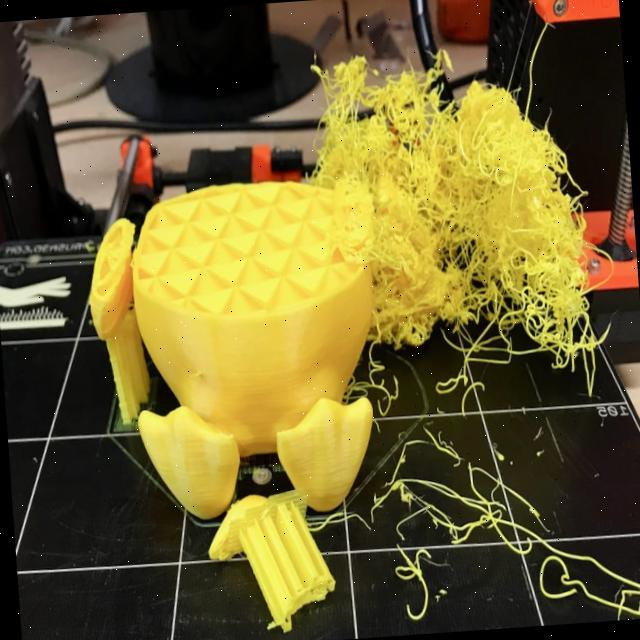spaghetti: (297, 39, 623, 397), (371, 426, 640, 636)
